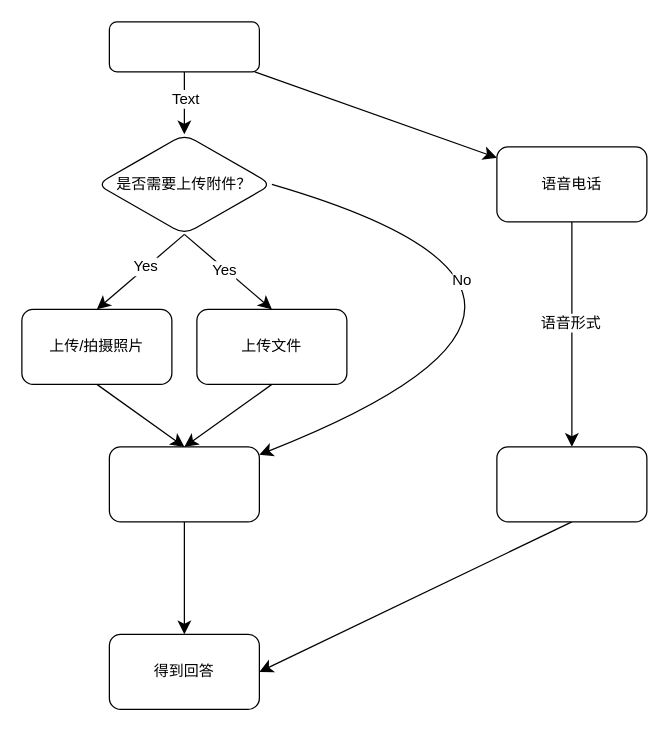
This 669x731 diagram has some shape labels left out. The shapes that lost their labels are listed below. From the top down, each one's centre as x and y in pixels, then its label:
the point at 183,46: 开始
the point at 183,484: 输入问题
the point at 571,484: 说出问题
